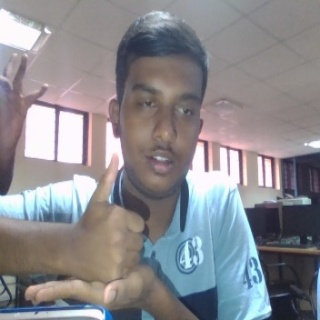Face: (108, 11, 219, 198)
Help: (23, 152, 155, 307)
